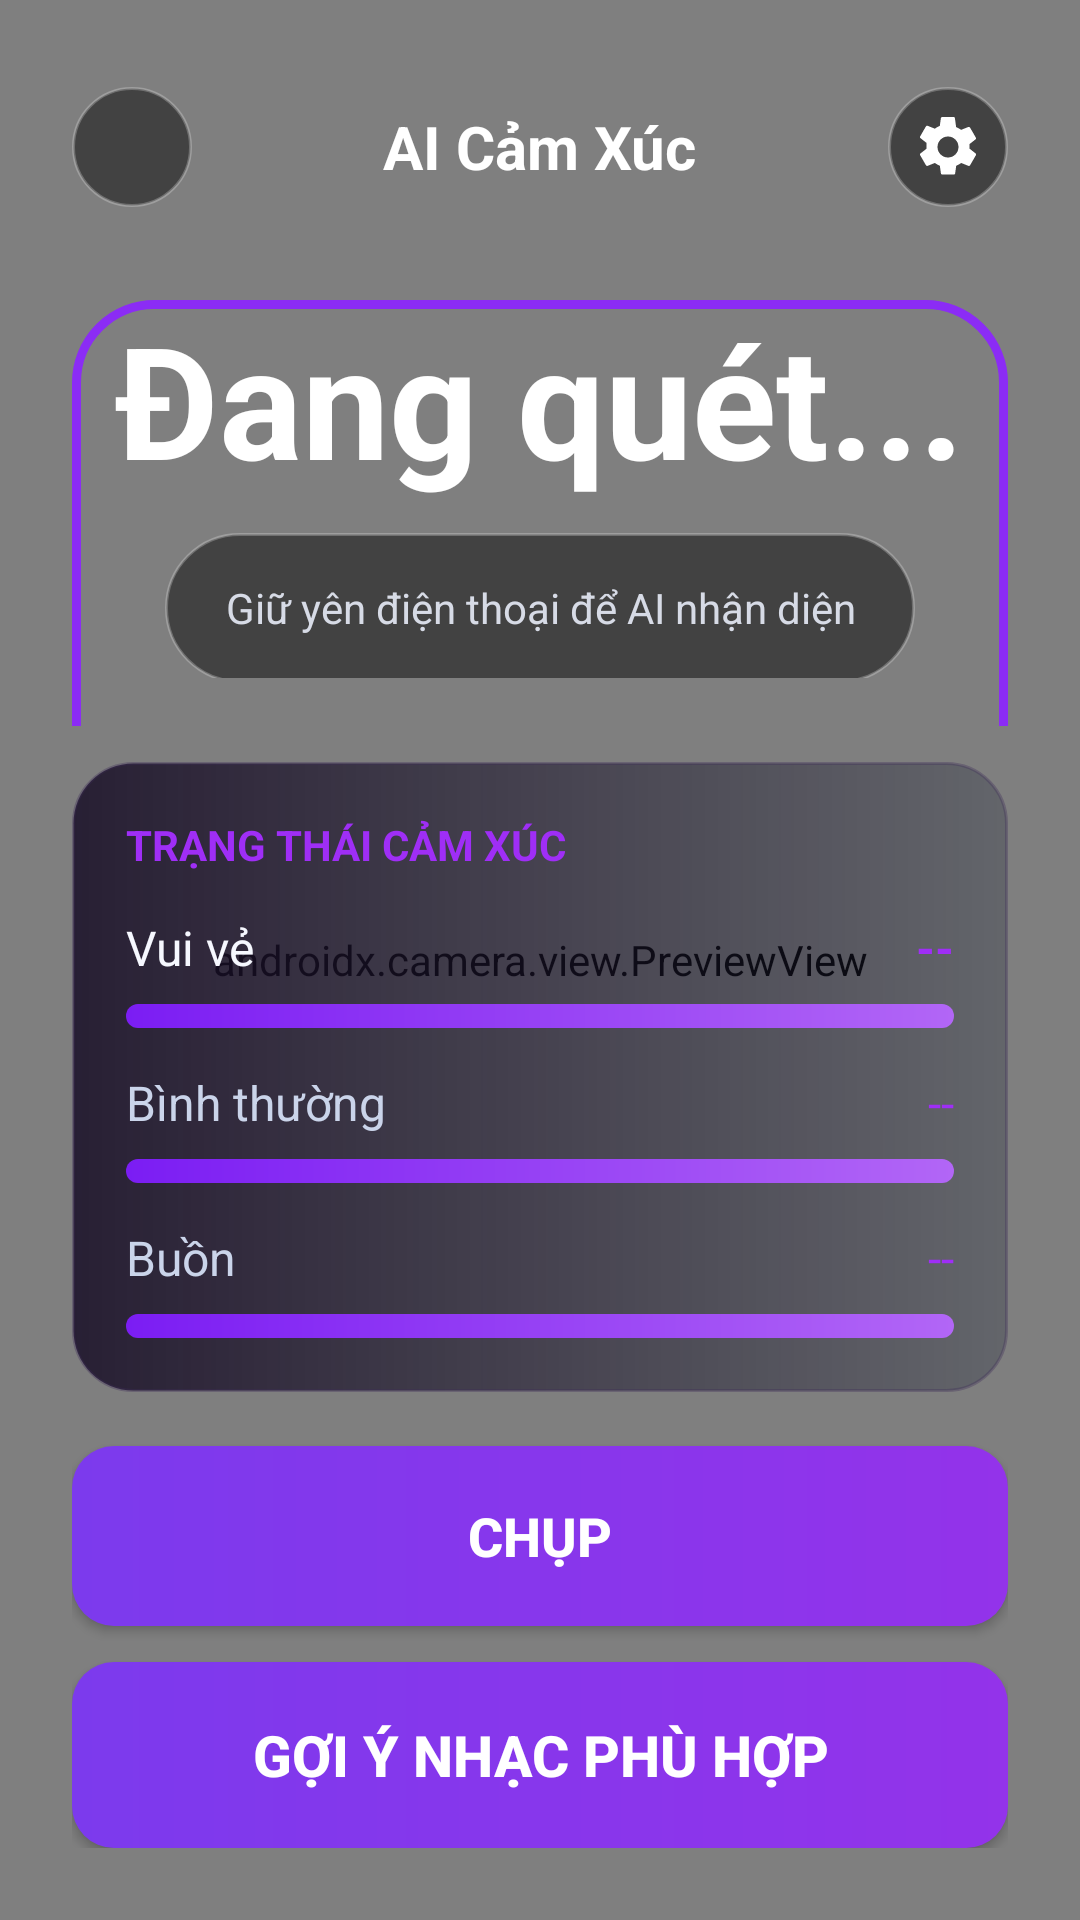

Icons on this 1080px x 1920px Android screen, each with its box as (x1, y1, x2, y2):
Cài đặt: (888, 87, 1008, 207)
